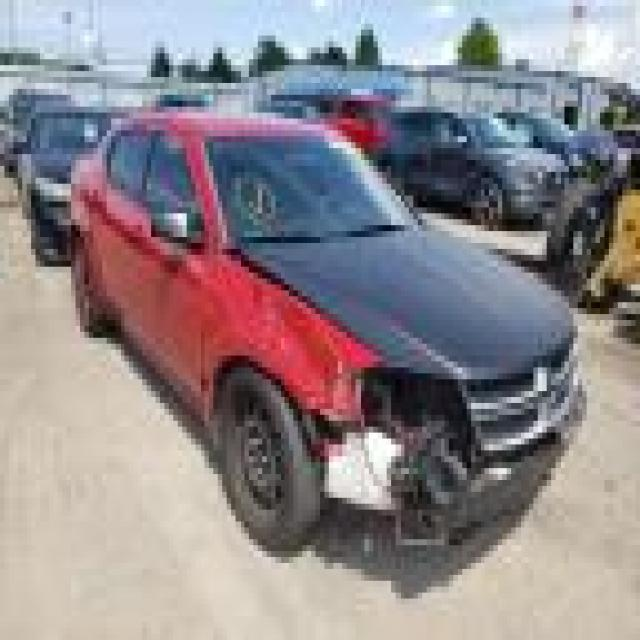moderate: (231, 321, 520, 562)
